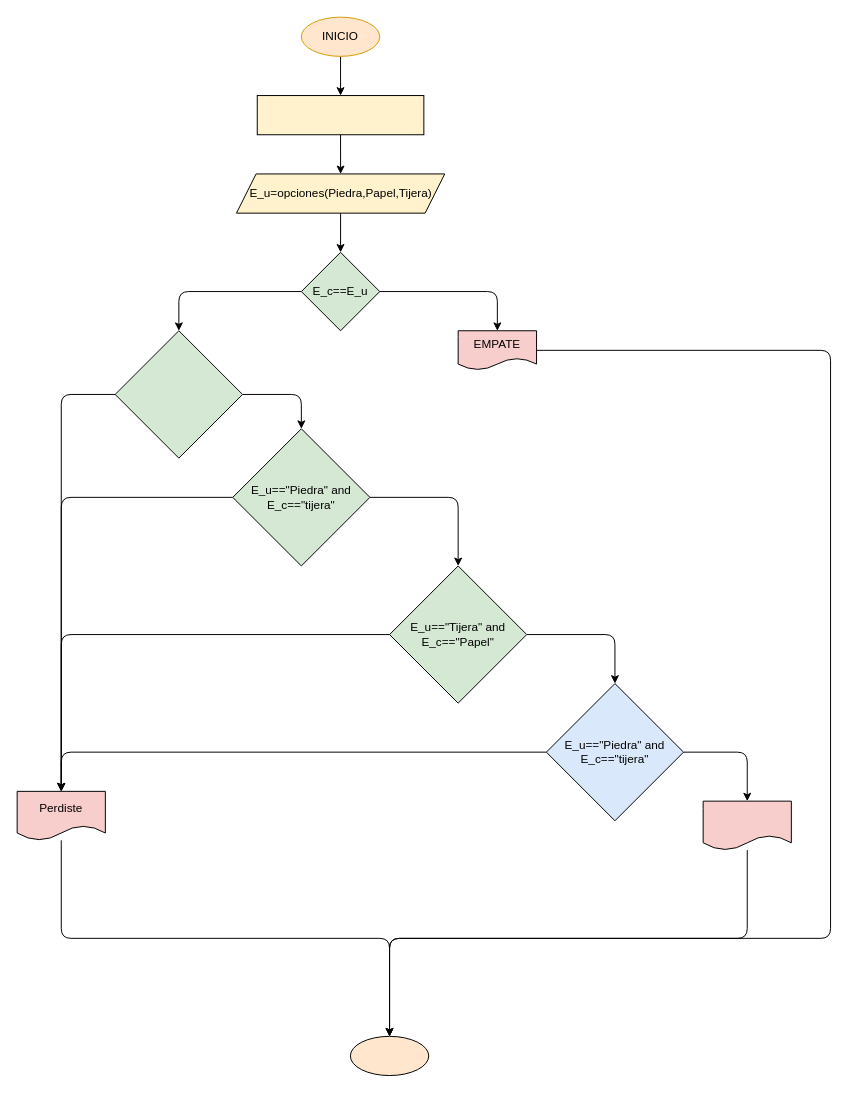
This 856x1093 diagram has some shape labels left out. The shapes that lost their labels are listed below. From the top down, each one's centre as x and y in pixels, then its label:
(340,115): E_c=random.choice(opciones)
(178,394): E_u=="Piedra" and E_c=="
(746,825): Ganaste
(389,1055): FIN
